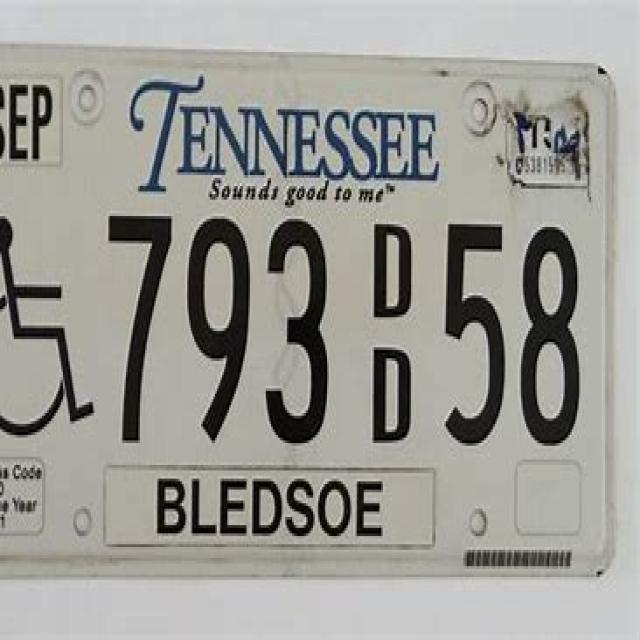symbol_of_access: (0, 214, 94, 440)
